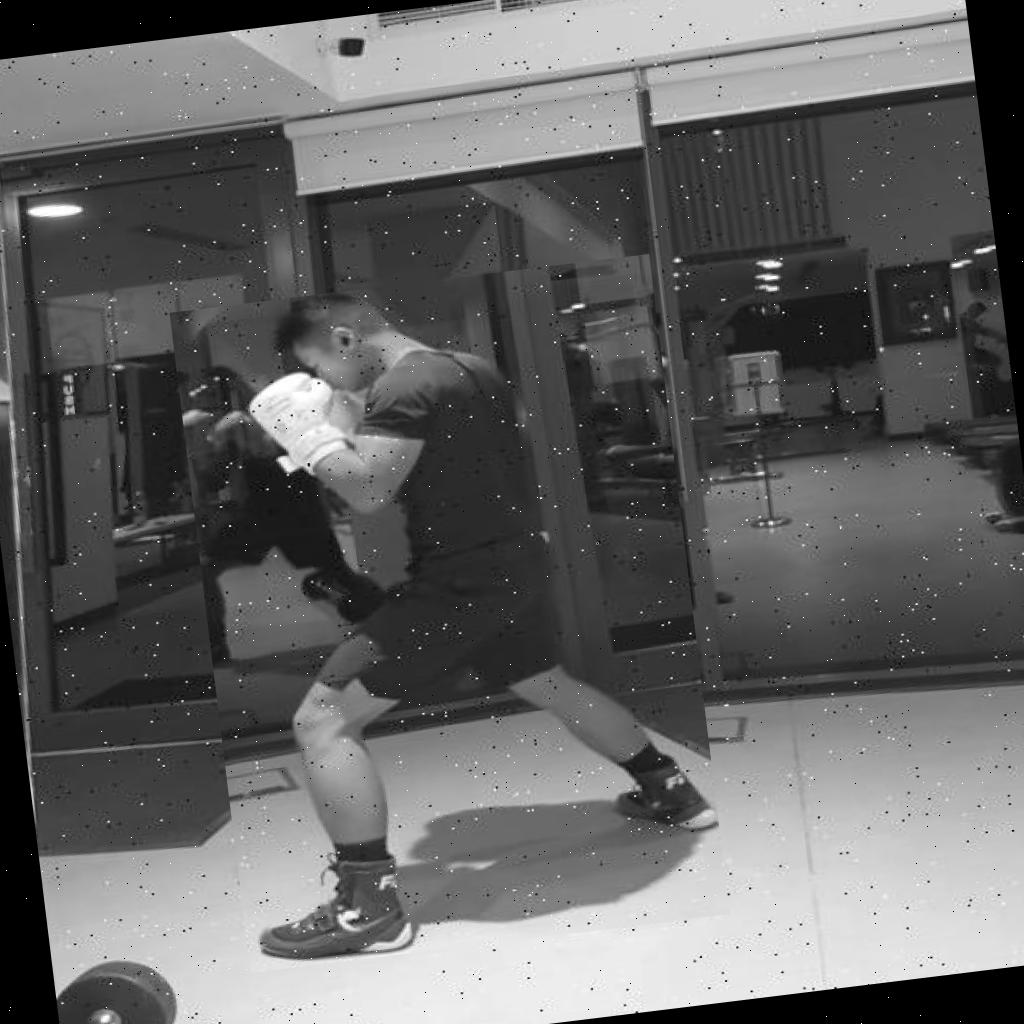no punch: (169, 254, 730, 972)
